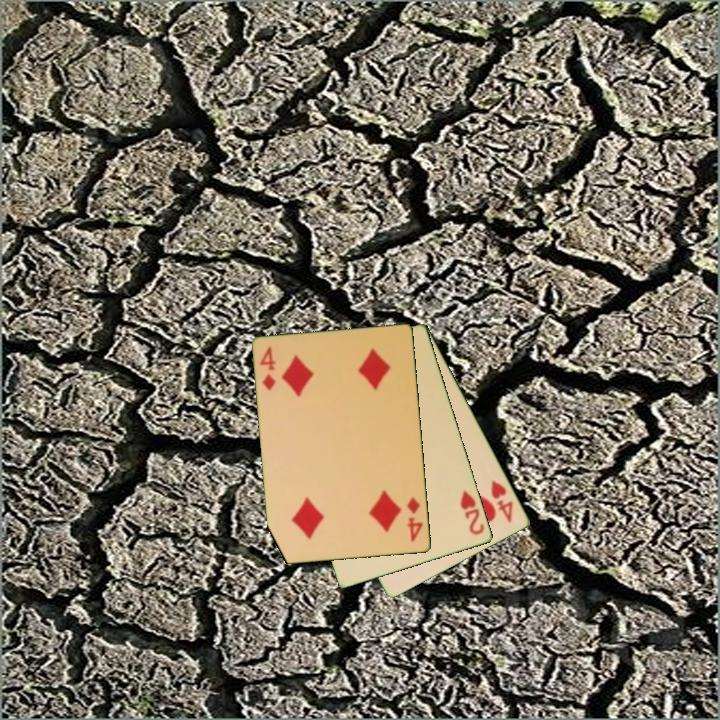2h: (457, 487, 487, 538)
4d: (256, 343, 279, 394), (404, 493, 426, 545)
4h: (488, 476, 516, 526)
